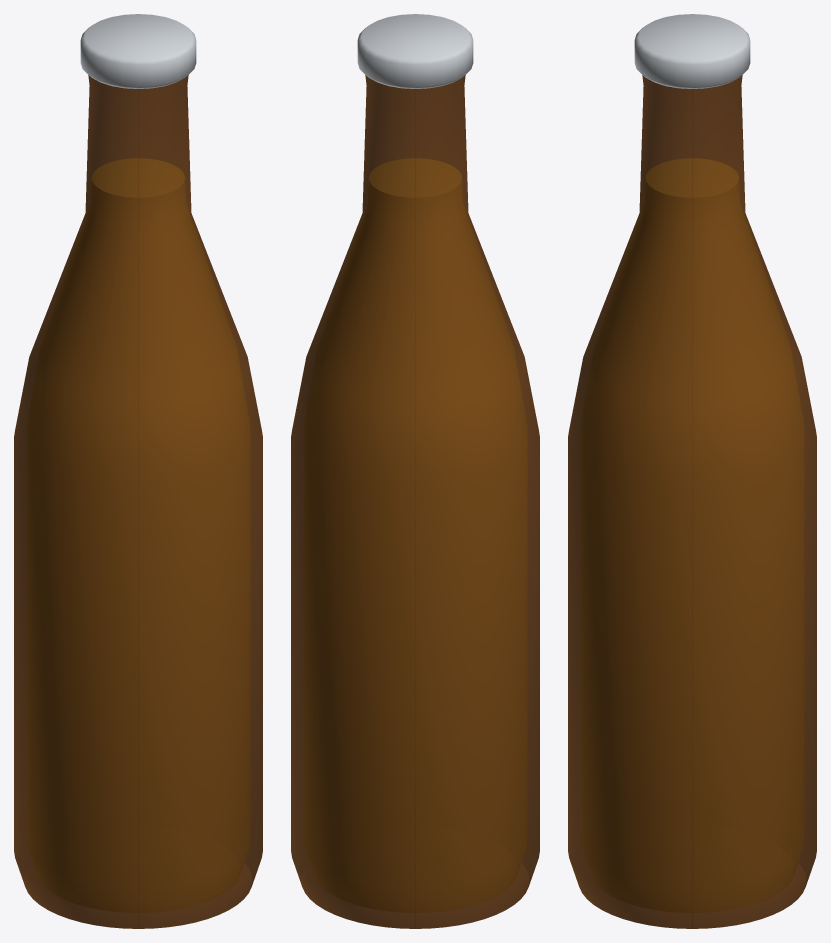
Rendered from longneck-vidro_ambar.glb.
The picture shows the model from 3 angles, left to right: view 1: azimuth 30°, elevation 25°; view 2: azimuth 150°, elevation 25°; view 3: azimuth 270°, elevation 25°; orthographic projection.
Visible parts, largest first — view 1: longneck-vidro_ambar; view 2: longneck-vidro_ambar; view 3: longneck-vidro_ambar.
Boxes of the visible parts, x1=… form: longneck-vidro_ambar: x1=14, y1=14, x2=262, y2=928; longneck-vidro_ambar: x1=291, y1=14, x2=539, y2=928; longneck-vidro_ambar: x1=568, y1=14, x2=816, y2=928.
Bounding box in the file's own units: 0.061 × 0.2282 × 0.061.
